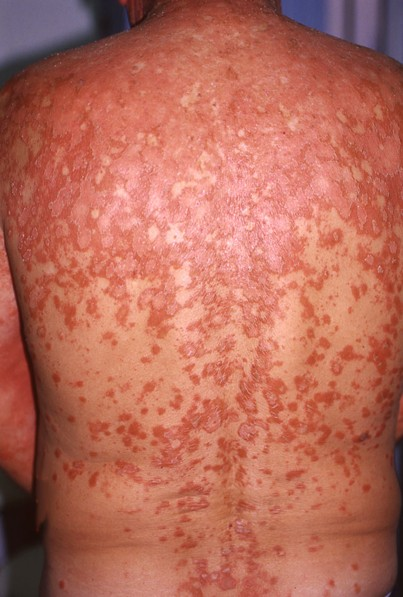Pityriasis Rubra Pilaris: (57, 91, 363, 501)
